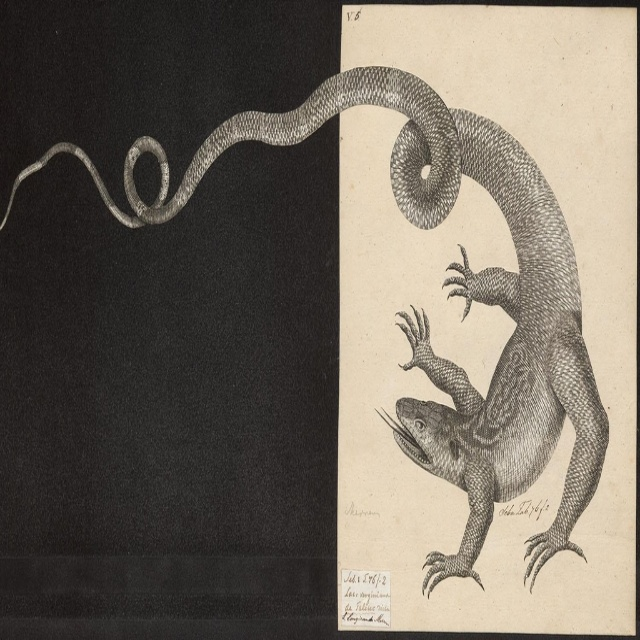Lizard: (1, 63, 609, 596)
